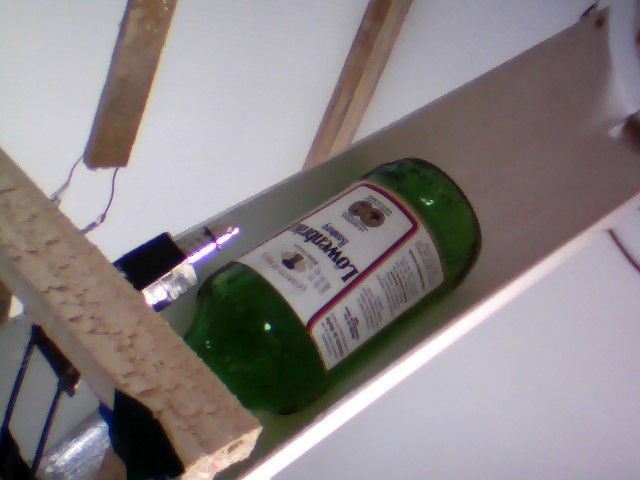vidrio: (172, 151, 486, 418)
